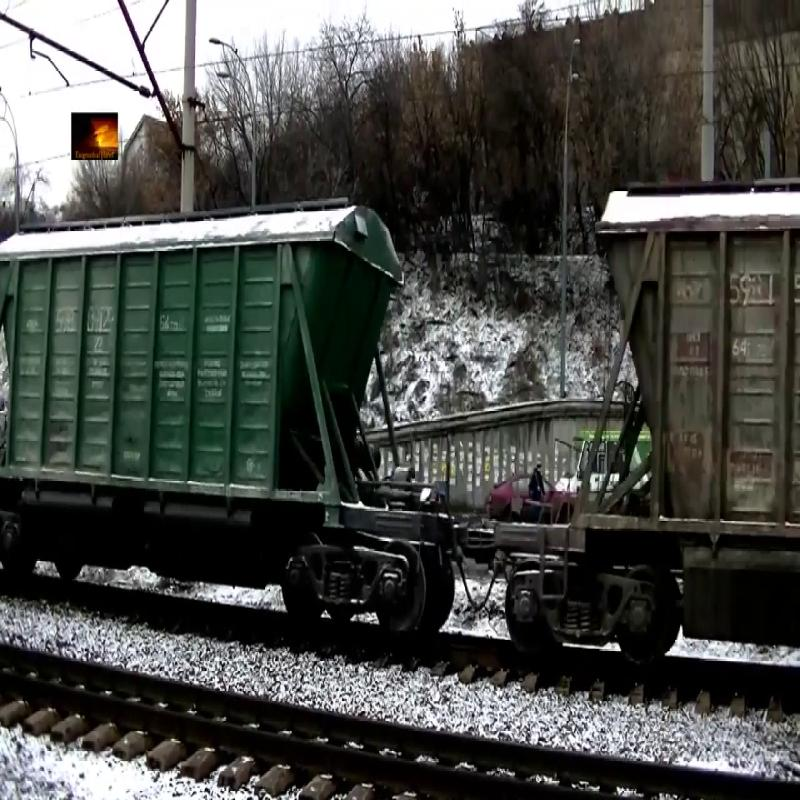train: (3, 192, 408, 538), (567, 175, 800, 585)
